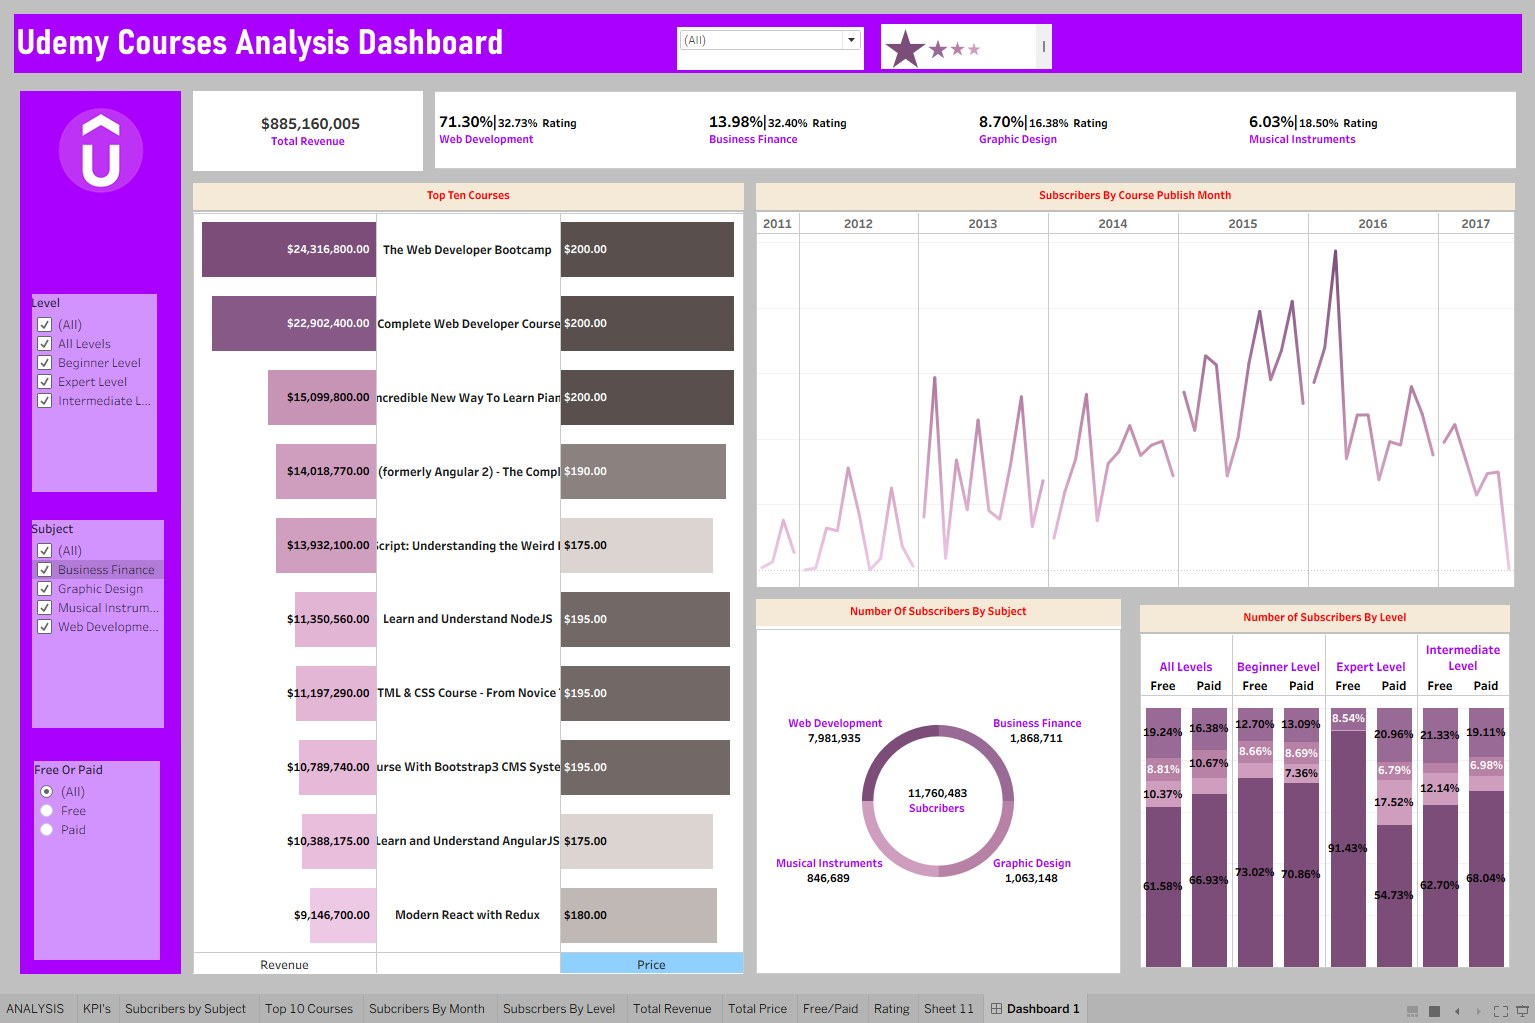

This screenshot's page, from the dashboard's own definition file:
{"tool":"tableau","page":{"name":"Dashboard 1","canvas":[1000,1000],"units":"permille","ordinal":0},"visuals":[{"type":"title","box":[5.9,9.5,988.3,84.5]},{"type":"worksheet","title":"Rating","mark":"Shape","box":[573.5,23.8,111.3,45.2]},{"type":"filter","title":"Subcribers By Month","param":"[federated.0wram310tf5z0513so89104v6w78].[yr:published_date:ok]","box":[441.1,27.4,121.9,42.9]},{"type":"worksheet","title":"Total Revenue","mark":"Automatic","box":[122.7,101.2,157.1,90.4]},{"type":"worksheet","title":"KPI's","mark":"Automatic","cols":["subject"],"box":[279.9,101.2,709.9,90.4]},{"type":"image","param":"Image/Udemy-Emblem.png","box":[14.7,108.3,103.7,140.5]},{"type":"worksheet","title":"Top 10 Courses","mark":"Automatic","rows":["course_title"],"cols":["revenue","Calculation_1496758073032709","price"],"box":[122.7,191.6,365.9,791.8]},{"type":"worksheet","title":"Subcribers By Month","mark":"Automatic","rows":["num_subscribers"],"cols":["published_date","published_date"],"box":[488.6,191.6,501.1,410.6]},{"type":"filter","title":"Subscrbers By Level","param":"[federated.0wram310tf5z0513so89104v6w78].[none:level:nk]","box":[16.6,289.3,89.8,211.9]},{"type":"filter","title":"Subcribers by Subject","param":"[federated.0wram310tf5z0513so89104v6w78].[none:subject:nk]","box":[16.6,516.7,94.3,221.4]},{"type":"worksheet","title":"Subcribers by Subject","mark":"Pie","rows":["Calculation_1496758064697345","Calculation_1496758064713731"],"box":[488.6,602.1,245.2,381.2]},{"type":"worksheet","title":"Subscrbers By Level","mark":"Automatic","rows":["num_subscribers"],"cols":["level","free or paid"],"box":[738.2,609.3,247.2,366.9]},{"type":"filter","title":"Subscrbers By Level","param":"[federated.0wram310tf5z0513so89104v6w78].[none:free or paid:nk]","box":[18.1,759.5,89.8,211.9]}]}

Visuals, with their boxes on the dashboard's canvas, which has no fixed pixel size, in thousandths of its width and height (x1, y1, x2, y2). These are canvas units, not pixel positions in the 1535x1023 screenshot, which may show the page scaled, cropped or inside an application window:
title: locate(6, 10, 994, 94)
"Rating" worksheet (Shape marks): locate(574, 24, 685, 69)
"Subcribers By Month" filter: locate(441, 27, 563, 70)
"Total Revenue" worksheet: locate(123, 101, 280, 192)
"KPI's" worksheet: locate(280, 101, 990, 192)
image: locate(15, 108, 118, 249)
"Top 10 Courses" worksheet: locate(123, 192, 489, 983)
"Subcribers By Month" worksheet: locate(489, 192, 990, 602)
"Subscrbers By Level" filter: locate(17, 289, 106, 501)
"Subcribers by Subject" filter: locate(17, 517, 111, 738)
"Subcribers by Subject" worksheet (Pie marks): locate(489, 602, 734, 983)
"Subscrbers By Level" worksheet: locate(738, 609, 985, 976)
"Subscrbers By Level" filter: locate(18, 760, 108, 971)
